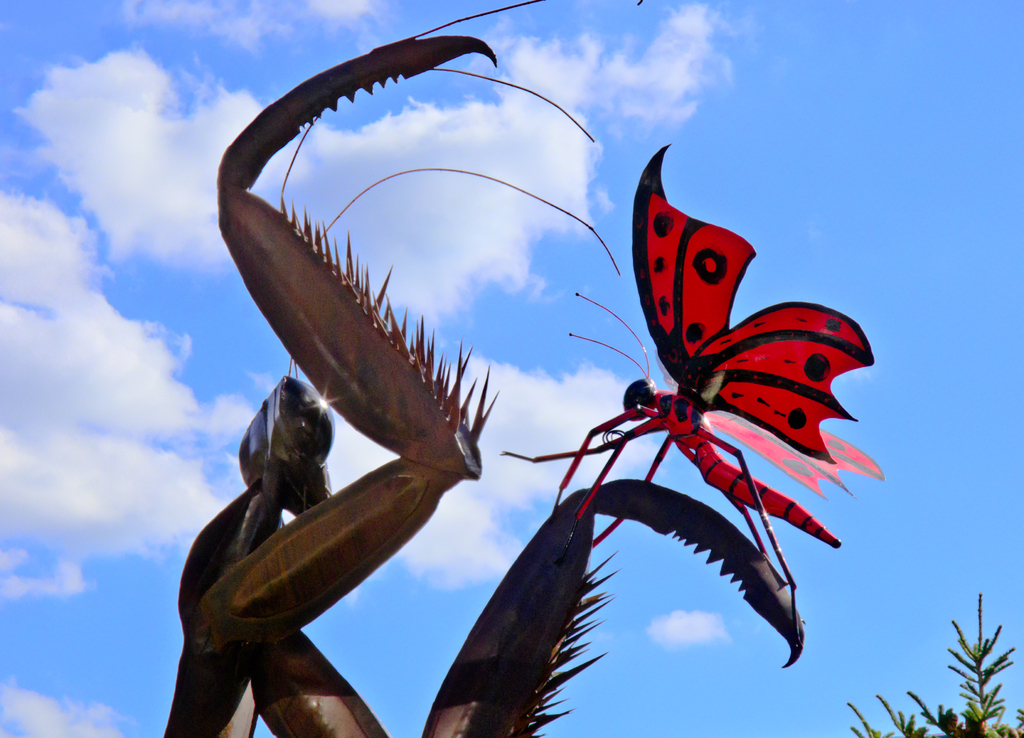Butterfly: (530, 130, 908, 574)
